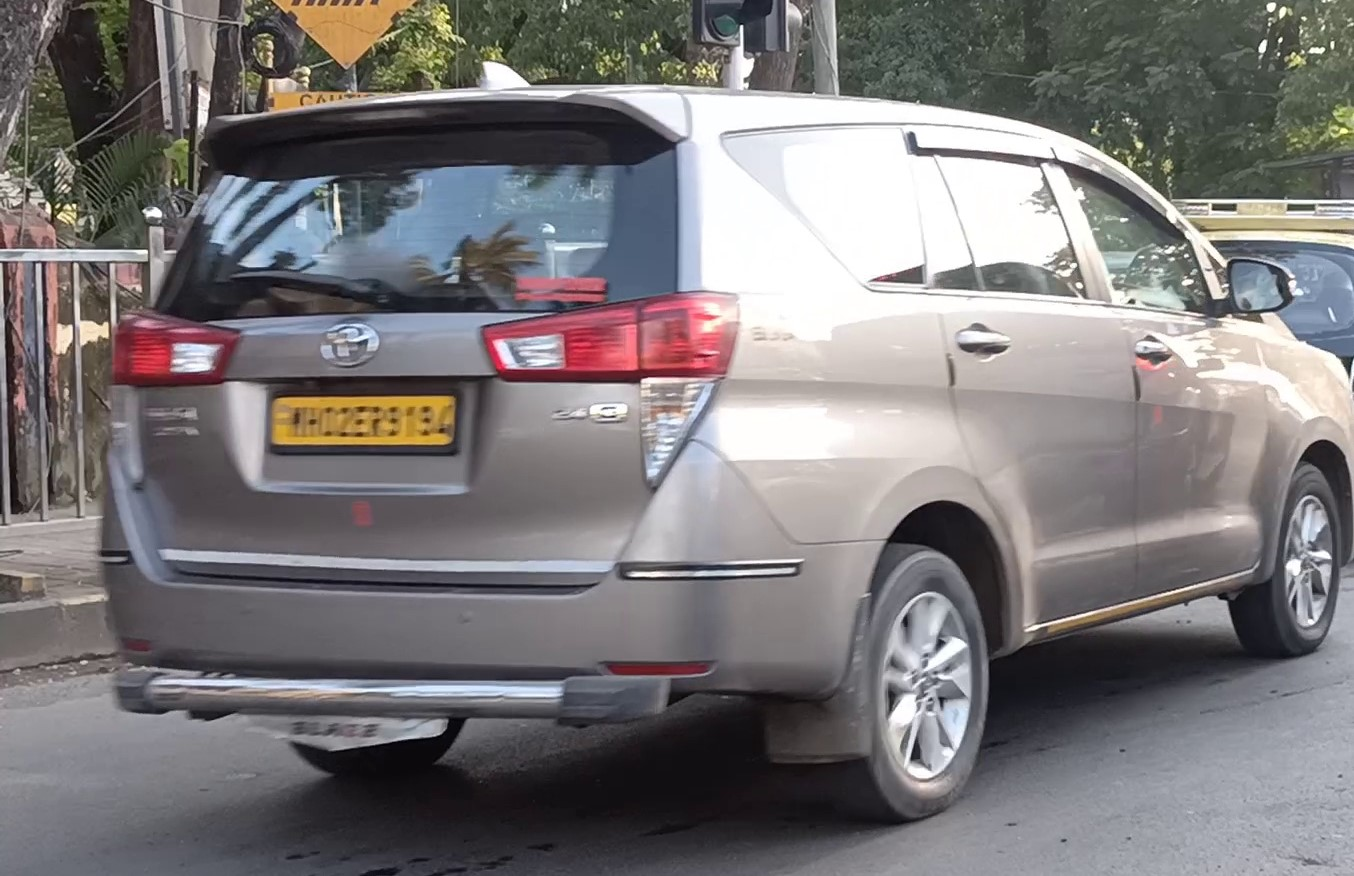MH02ER9194: (270, 394, 456, 444)
